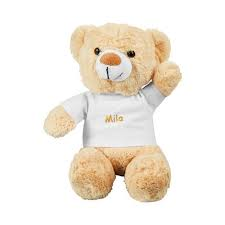teddy: (33, 14, 204, 211)
